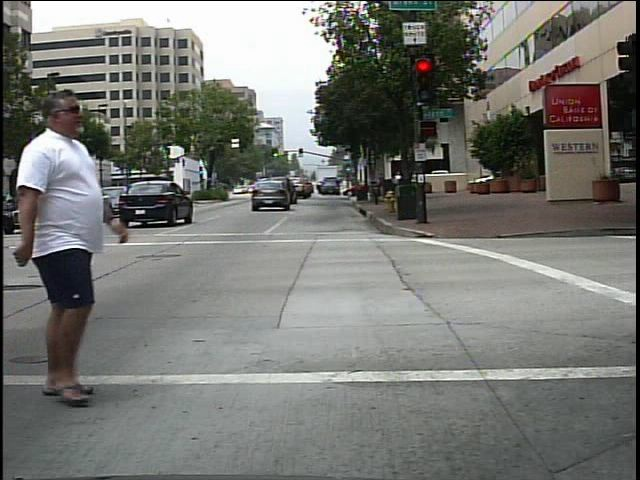person: (6, 89, 145, 403)
